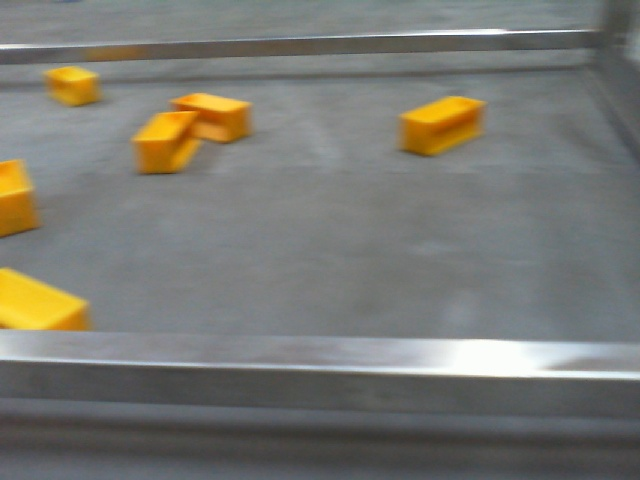YellowSample: (1, 262, 96, 333), (393, 94, 491, 156), (167, 91, 258, 149), (131, 107, 200, 179), (1, 159, 44, 240), (40, 65, 102, 112)
